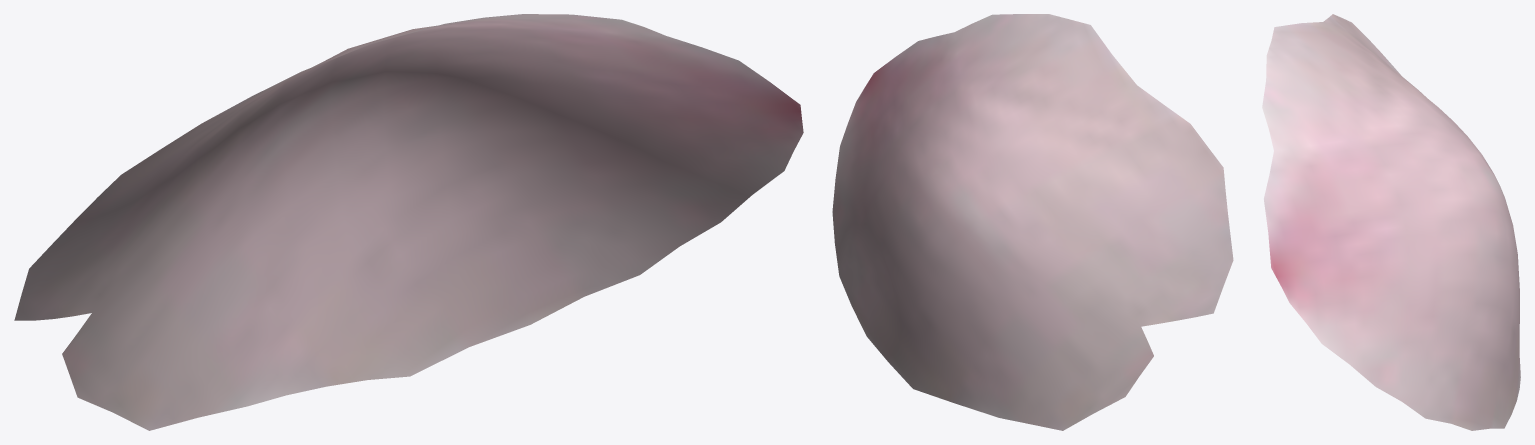
File: cherry-petal.glb
3 renders of one model, left to right at view 1: azimuth 30°, elevation 25°; view 2: azimuth 150°, elevation 25°; view 3: azimuth 270°, elevation 25°, orthographic. The views are drawn at different scales.
Visible parts, largest first — view 1: petal02; view 2: petal02; view 3: petal02.
Boxes of the visible parts, box(x1,y1,x2,y2) form: petal02: box(14, 14, 803, 430); petal02: box(832, 14, 1233, 430); petal02: box(1262, 14, 1520, 430).
Size of the model in its own units: 7.94 by 5.48 by 3.58.
1 material, 1 textured.
